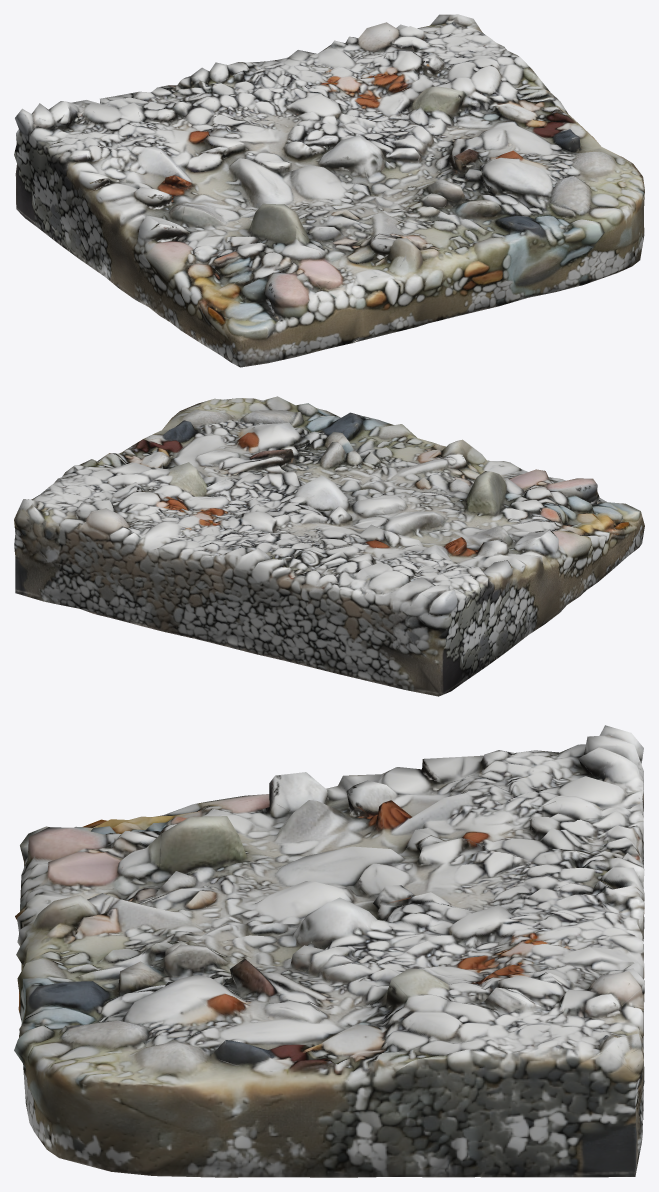
File: Meshy_AI_Pebble_Plateau_0325230339_texture.fbx
3 renders of one model, top to bottom at view 1: azimuth 30°, elevation 25°; view 2: azimuth 150°, elevation 25°; view 3: azimuth 270°, elevation 25°, orthographic. The views are drawn at different scales.
Visible parts, largest first — view 1: Mesh1.0; view 2: Mesh1.0; view 3: Mesh1.0.
Boxes of the visible parts, x1,y1,x2,y2 form: Mesh1.0: [14, 14, 644, 367]; Mesh1.0: [14, 396, 644, 696]; Mesh1.0: [14, 725, 644, 1177].
Size of the model in its own units: 202 by 45.18 by 175.
Materials: 1 (1 with a texture image).
